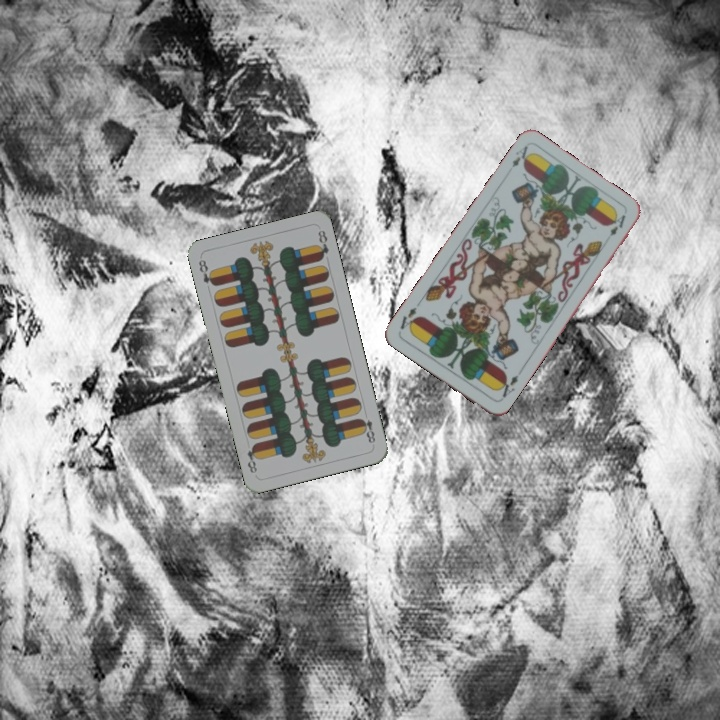E8: (194, 255, 218, 289), (356, 414, 378, 446)
EA: (493, 367, 524, 403), (508, 142, 534, 170)
